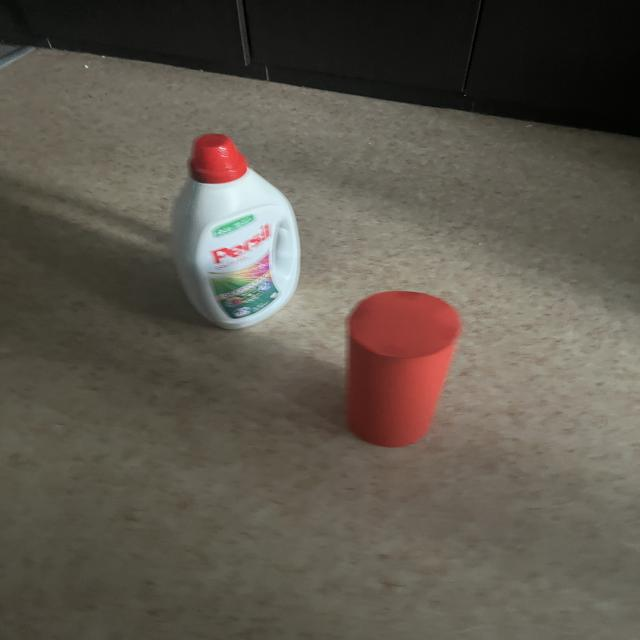przeszkoda: (346, 291, 461, 447)
